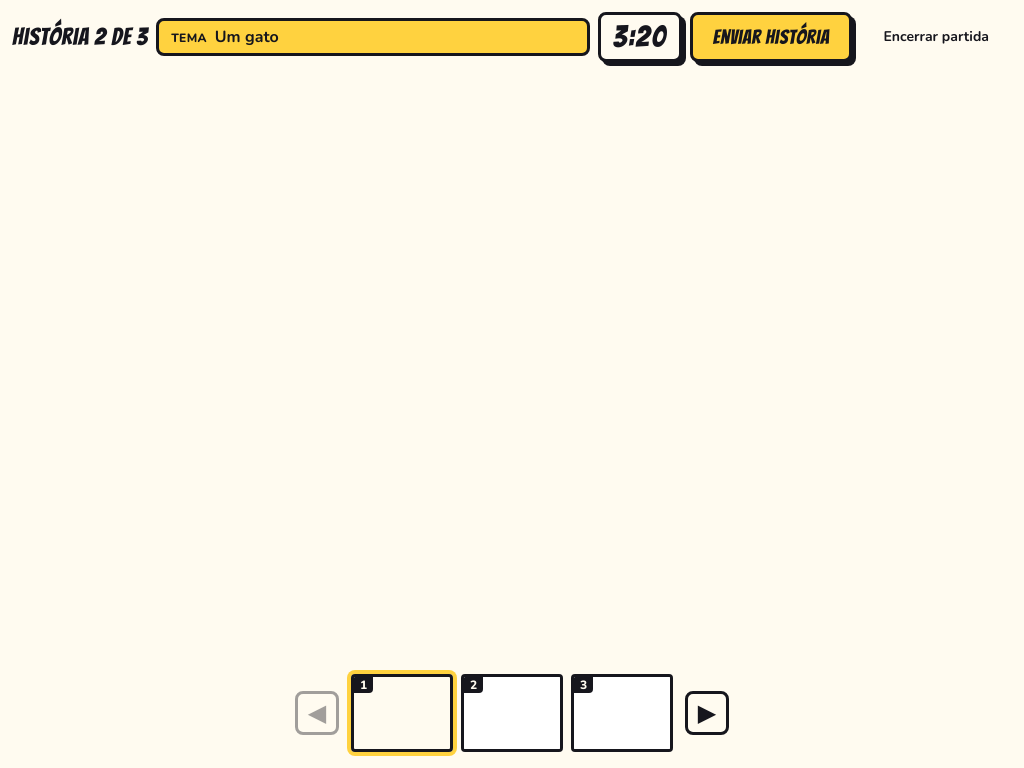
Test: tela de desenho da história completa (modo individual) › R66: com mais da metade do tempo, pede confirmação para enviar a história (metade do tempo da história)
The width and height of the screenshot is (1024, 768).
Click the button "Enviar história" at [771, 37], box x1=690 y1=12 x2=852 y2=62
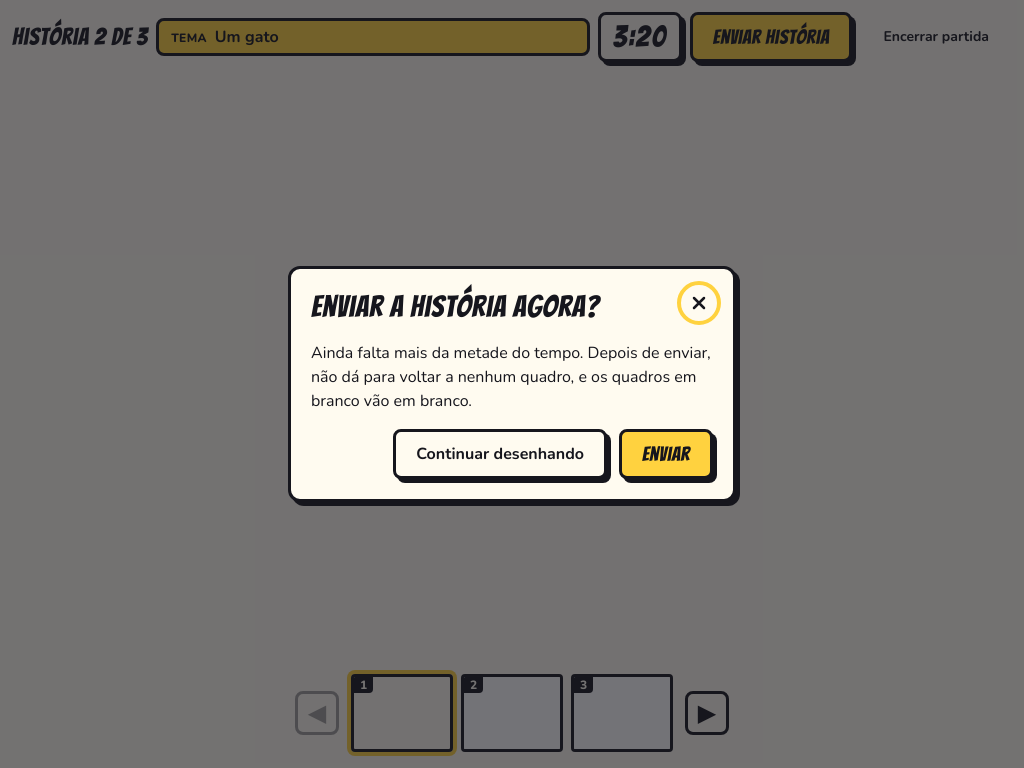
Check: the dialog "Enviar a história agora?" is shown, box x1=288 y1=266 x2=736 y2=502
